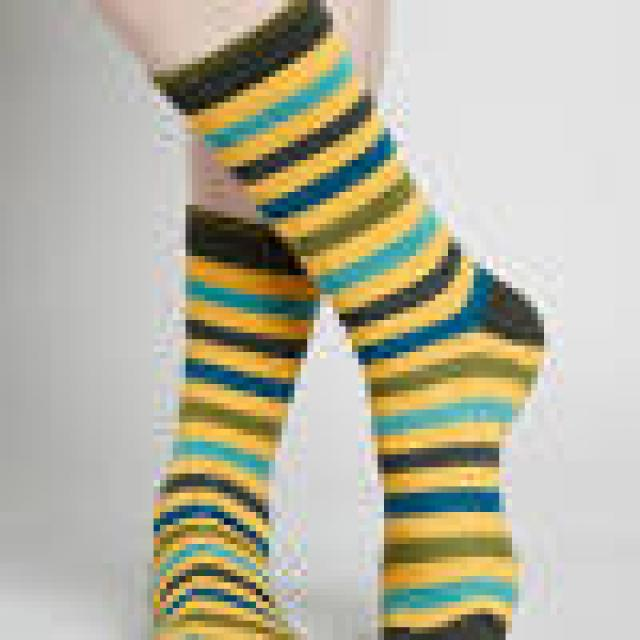Clothes -Biodegradable-: (153, 0, 548, 640)
